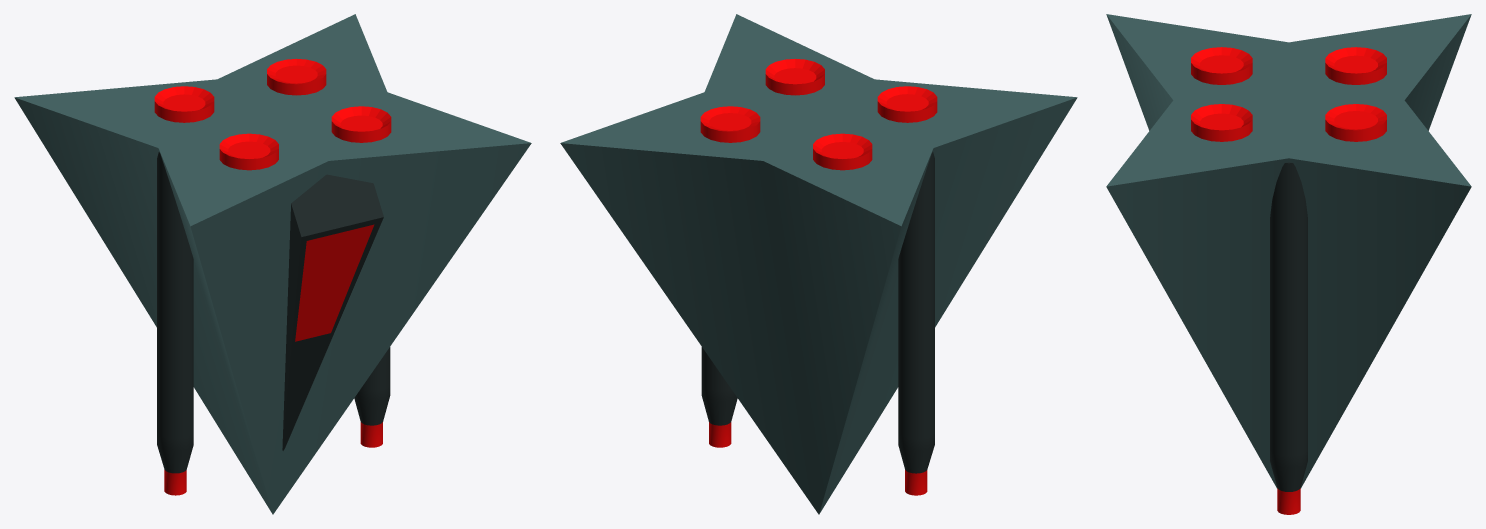
File: Enemy Ship 1d.FBX
3 views of the same model, side by side, from view 1: azimuth 30°, elevation 25°; view 2: azimuth 150°, elevation 25°; view 3: azimuth 270°, elevation 25° (orthographic). The views are drawn at different scales.
Visible parts, largest first — view 1: Enemy Ship1; view 2: Enemy Ship1; view 3: Enemy Ship1.
Boxes of the visible parts, x1,y1,x2,y2 form: Enemy Ship1: (14, 14, 531, 514); Enemy Ship1: (560, 14, 1077, 514); Enemy Ship1: (1106, 14, 1471, 514).
Bounding box in the file's own units: 30.4 × 34.55 × 27.2.
